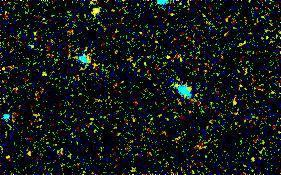star: (90, 0, 120, 29)
